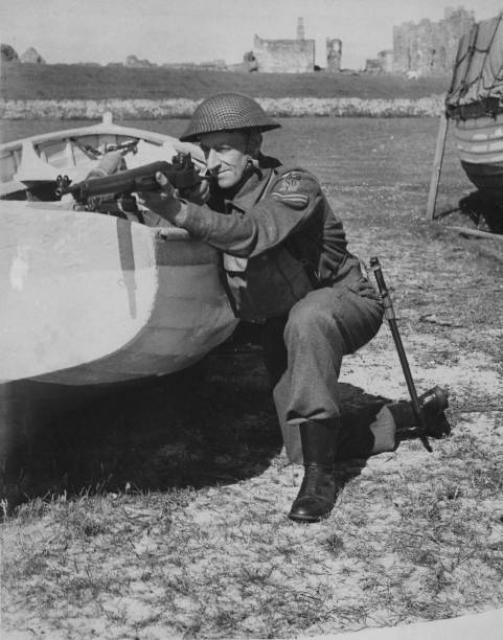other: (157, 100, 382, 494)
